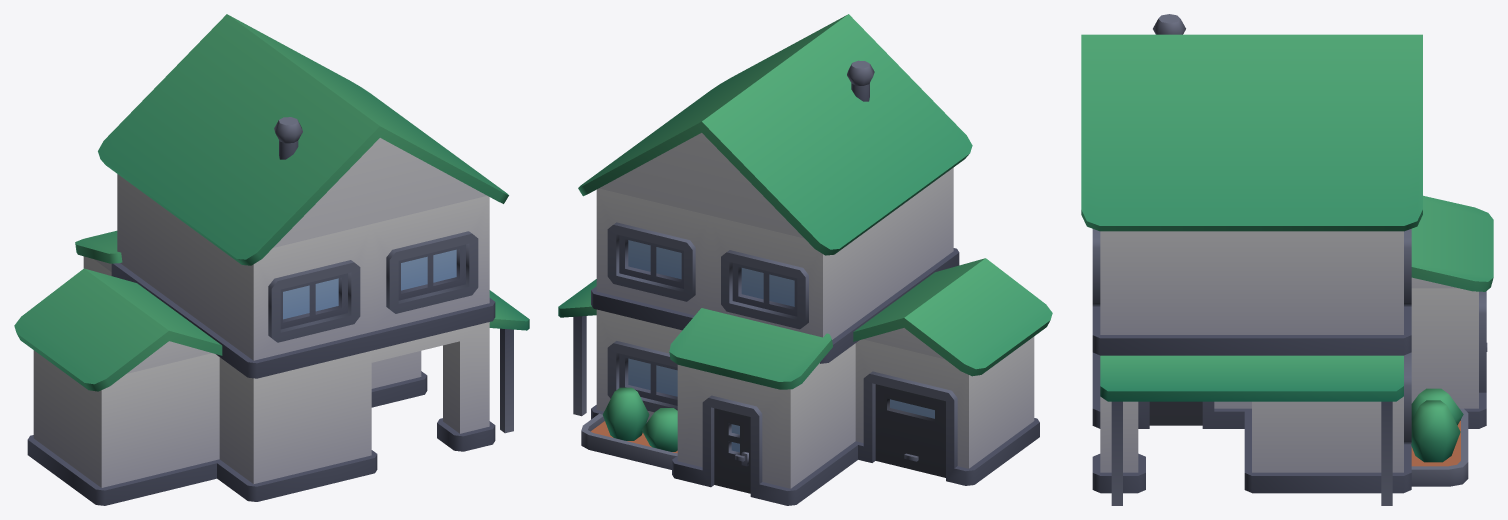
Rendered from building-type-s.glb.
3 views of the same model, side by side, from view 1: azimuth 30°, elevation 25°; view 2: azimuth 150°, elevation 25°; view 3: azimuth 270°, elevation 25° (orthographic). The views are drawn at different scales.
Parts seen in each view (by area): view 1: building-type-s; view 2: building-type-s; view 3: building-type-s.
Part boxes in pixels (bbox=[...]): building-type-s: bbox=[14, 14, 529, 505]; building-type-s: bbox=[558, 14, 1052, 505]; building-type-s: bbox=[1081, 14, 1493, 505].
Bounding box in the file's own units: 1.41 × 1.14 × 1.09.
